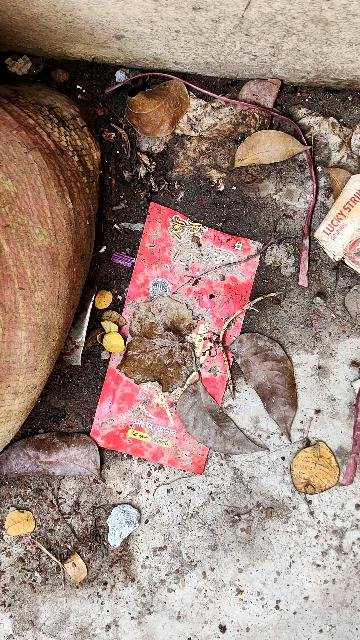packet: (79, 204, 267, 477)
